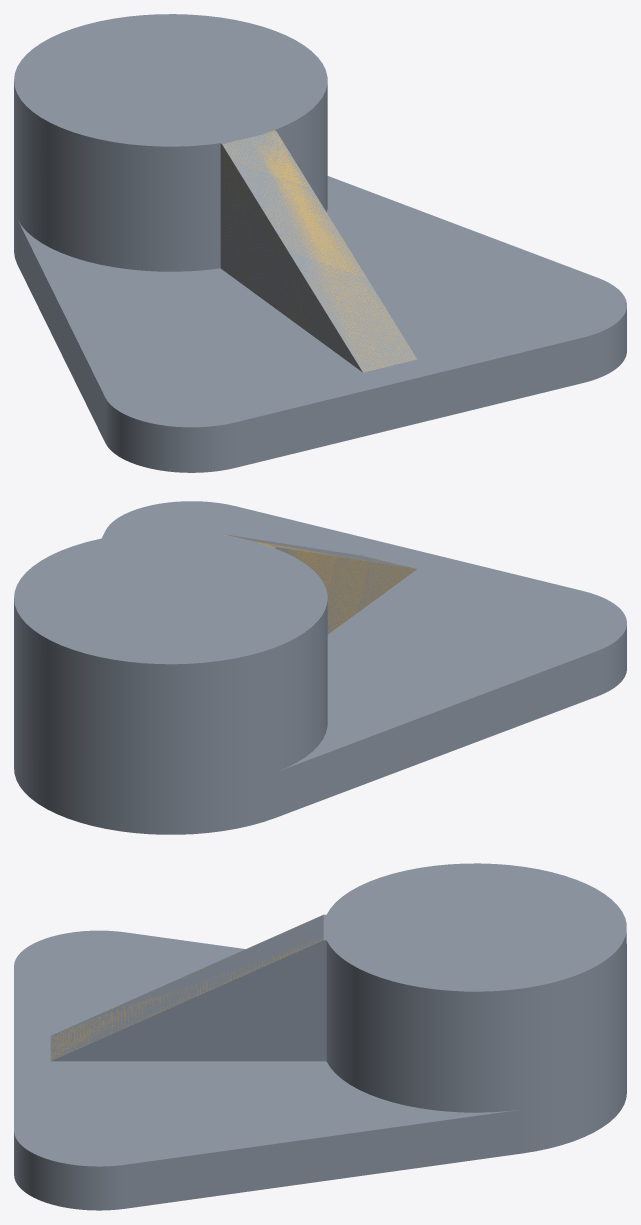
File: step_04.glb
3 views of the same model, one above another, from view 1: azimuth 30°, elevation 25°; view 2: azimuth 150°, elevation 25°; view 3: azimuth 270°, elevation 25° (orthographic). The views are drawn at different scales.
Parts seen in each view (by area): view 1: part__boss bracket, added__boss bracket, overlay; view 2: part__boss bracket, overlay; view 3: part__boss bracket, added__boss bracket.
Part boxes in pixels (<box>): part__boss bracket: <box>14,14,626,472</box>; added__boss bracket: <box>221,130,416,372</box>; overlay: <box>220,146,358,369</box>; part__boss bracket: <box>14,501,626,834</box>; overlay: <box>276,547,416,633</box>; part__boss bracket: <box>14,863,626,1210</box>; added__boss bracket: <box>50,922,322,1060</box>.
Size of the model in its own units: 91.99 by 30 by 101.
